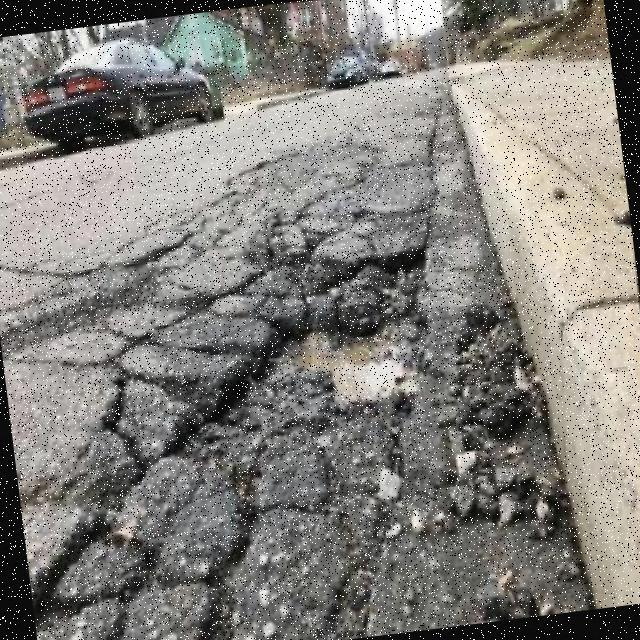Pothole: (134, 249, 428, 456)
